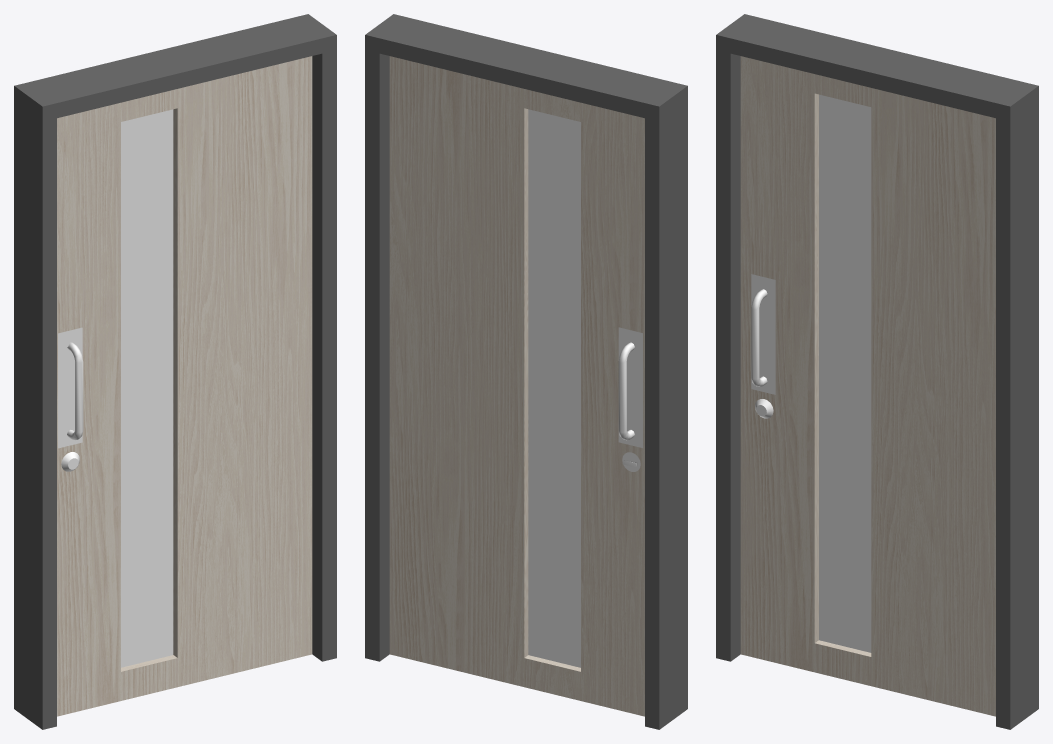
Rendered from ClassRoomDoor.fbx.
3 views of the same model, side by side, from view 1: azimuth 30°, elevation 25°; view 2: azimuth 150°, elevation 25°; view 3: azimuth 330°, elevation 25° (orthographic).
Visible parts, largest first — view 1: RoomDoor, RoomDoorFrame; view 2: RoomDoor, RoomDoorFrame; view 3: RoomDoor, RoomDoorFrame.
Part boxes in pixels (x1,y1,x2,y2): RoomDoor: (57, 56, 312, 716); RoomDoorFrame: (14, 14, 336, 729); RoomDoor: (389, 56, 644, 716); RoomDoorFrame: (365, 14, 687, 729); RoomDoor: (740, 56, 995, 716); RoomDoorFrame: (716, 14, 1038, 729).
Size of the model in its own units: 103 by 208 by 18.18.
